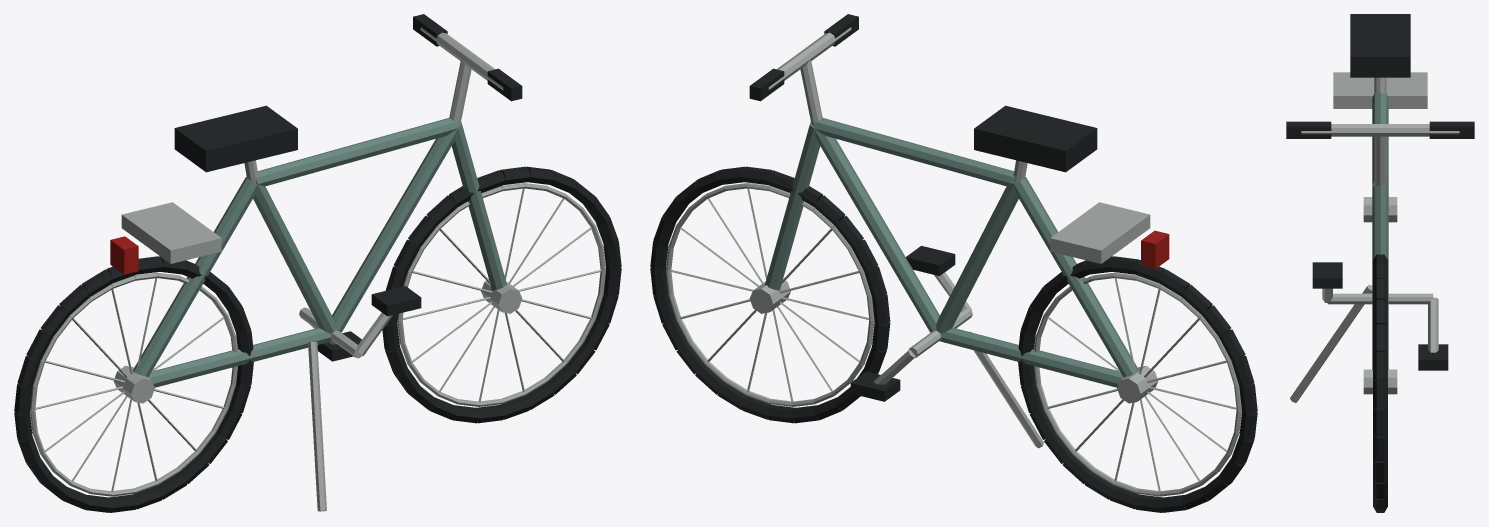
Rendered from bicycle-detail.glb.
3 renders of one model, left to right at view 1: azimuth 30°, elevation 25°; view 2: azimuth 150°, elevation 25°; view 3: azimuth 270°, elevation 25°, orthographic. The views are drawn at different scales.
Parts seen in each view (by area): view 1: bicycle-detail · illustrative street object / rubber, bicycle-detail · illustrative street object / metal, bicycle-detail · illustrative street object / bicycle enamel, bicycle-detail · illustrative street object / tail lamp; view 2: bicycle-detail · illustrative street object / rubber, bicycle-detail · illustrative street object / metal, bicycle-detail · illustrative street object / bicycle enamel, bicycle-detail · illustrative street object / tail lamp; view 3: bicycle-detail · illustrative street object / rubber, bicycle-detail · illustrative street object / metal, bicycle-detail · illustrative street object / bicycle enamel.
Boxes of the visible parts, x1,y1,x2,y2 form: bicycle-detail · illustrative street object / rubber: (14,14,621,512); bicycle-detail · illustrative street object / metal: (30,27,605,511); bicycle-detail · illustrative street object / bicycle enamel: (133,118,506,387); bicycle-detail · illustrative street object / tail lamp: (110,236,138,274); bicycle-detail · illustrative street object / rubber: (650,14,1257,512); bicycle-detail · illustrative street object / metal: (666,27,1241,496); bicycle-detail · illustrative street object / bicycle enamel: (765,118,1138,387); bicycle-detail · illustrative street object / tail lamp: (1141,230,1169,268); bicycle-detail · illustrative street object / rubber: (1286,14,1474,512); bicycle-detail · illustrative street object / metal: (1290,72,1459,402); bicycle-detail · illustrative street object / bicycle enamel: (1372,92,1388,369).
Bounding box in the file's own units: 1.77 × 1.07 × 0.5.
